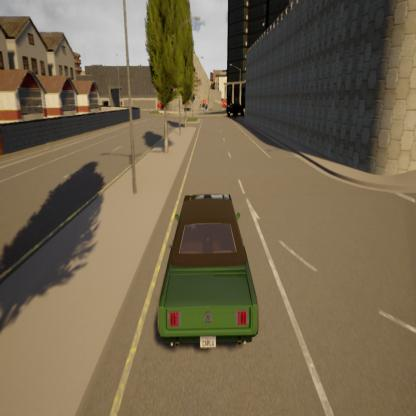Cars: (150, 170, 269, 365), (224, 95, 247, 119)
